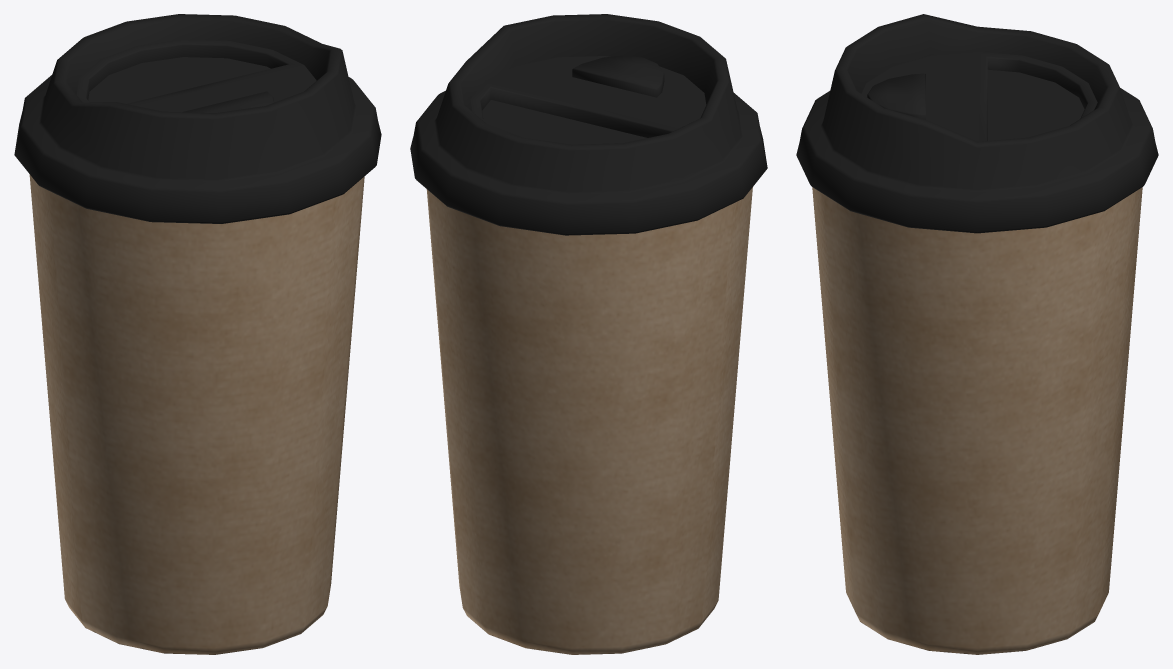
The model's file is Drink_B.fbx.
3 renders of one model, left to right at view 1: azimuth 30°, elevation 25°; view 2: azimuth 150°, elevation 25°; view 3: azimuth 270°, elevation 25°, orthographic. The views are drawn at different scales.
Parts seen in each view (by area): view 1: Drink_B; view 2: Drink_B; view 3: Drink_B.
Boxes of the visible parts, left/top/right/bottom form: Drink_B: left=14, top=14, right=381, bottom=654; Drink_B: left=410, top=14, right=767, bottom=654; Drink_B: left=796, top=14, right=1158, bottom=654.
Bounding box in the file's own units: 0.1509 × 0.2461 × 0.1509.
